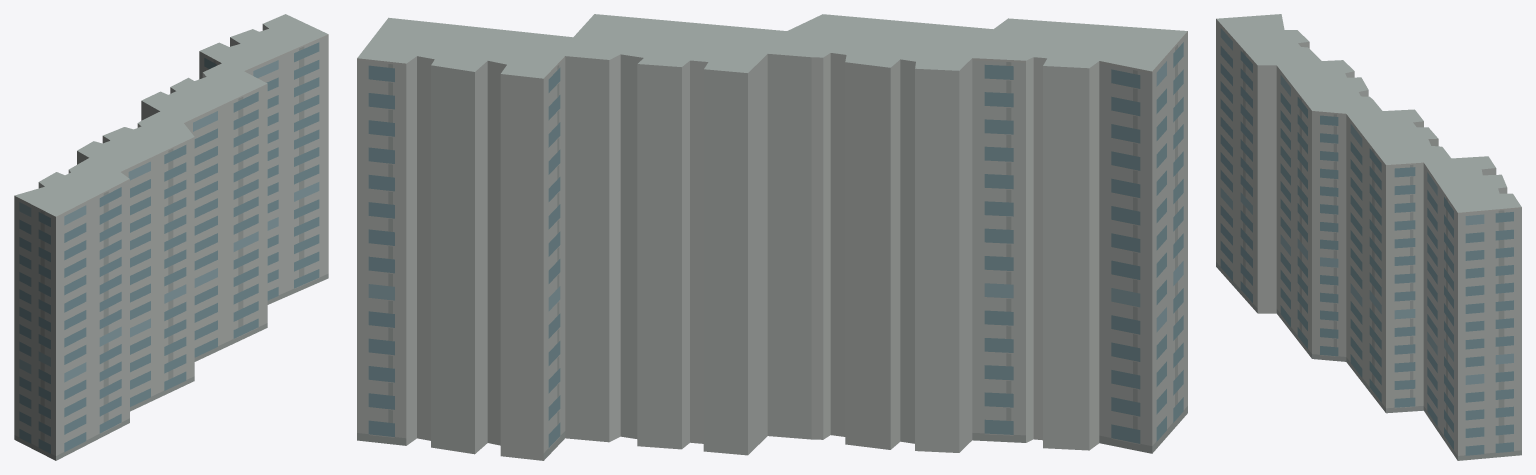
The model's file is residential-d7e8be9a-de1e-4ea1-b73b-d48fdf7ca789.glb.
The picture shows the model from 3 angles, left to right: view 1: azimuth 30°, elevation 25°; view 2: azimuth 150°, elevation 25°; view 3: azimuth 270°, elevation 25°; orthographic projection. The views are drawn at different scales.
Visible parts, largest first — view 1: residential-d7e8be9a-de1e-4ea1-b73b-d48fdf7ca789.tmp; view 2: residential-d7e8be9a-de1e-4ea1-b73b-d48fdf7ca789.tmp; view 3: residential-d7e8be9a-de1e-4ea1-b73b-d48fdf7ca789.tmp.
Boxes of the visible parts, x1=… form: residential-d7e8be9a-de1e-4ea1-b73b-d48fdf7ca789.tmp: x1=14, y1=14, x2=328, y2=460; residential-d7e8be9a-de1e-4ea1-b73b-d48fdf7ca789.tmp: x1=357, y1=14, x2=1187, y2=460; residential-d7e8be9a-de1e-4ea1-b73b-d48fdf7ca789.tmp: x1=1216, y1=14, x2=1521, y2=460.
Bounding box in the file's own units: 73.41 × 42.7 × 47.7.
